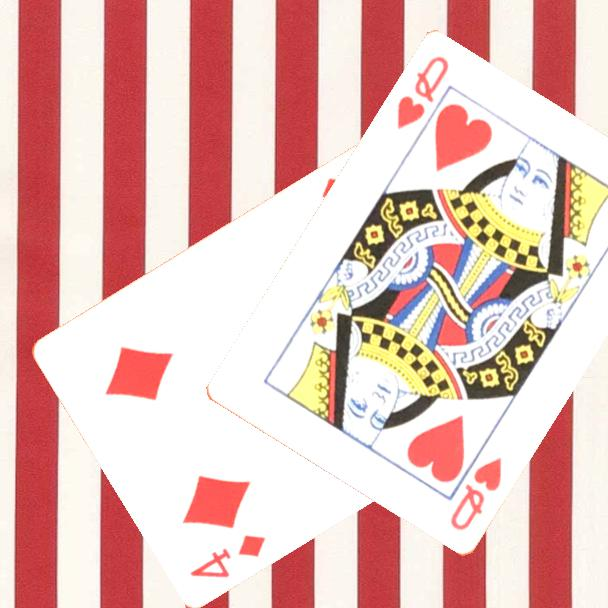d04: (186, 531, 269, 582)
h12: (446, 454, 505, 535), (393, 53, 452, 133)
